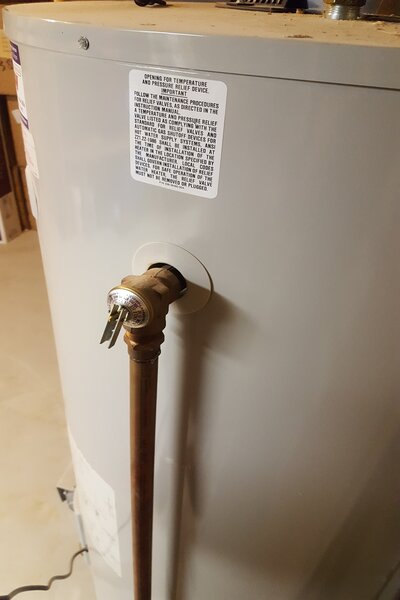valve: (90, 262, 174, 382)
